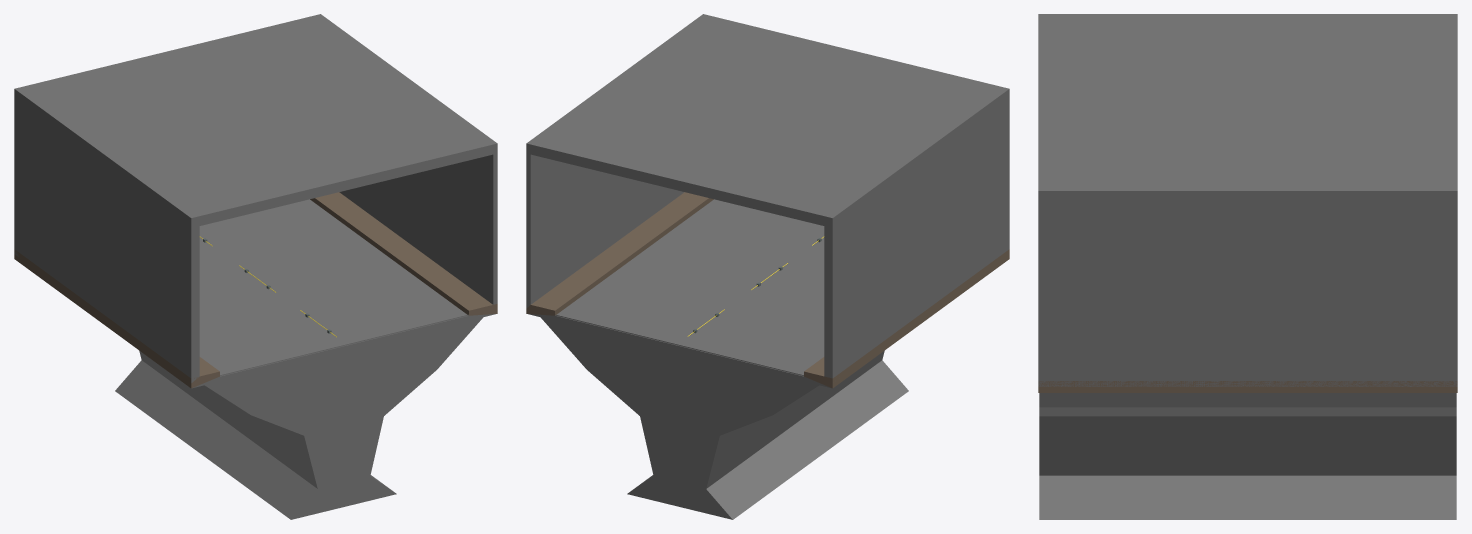
The picture shows the model from 3 angles, left to right: view 1: azimuth 30°, elevation 25°; view 2: azimuth 150°, elevation 25°; view 3: azimuth 270°, elevation 25°; orthographic projection. The views are drawn at different scales.
Visible parts, largest first — view 1: BR86 | archived geometry; view 2: BR86 | archived geometry; view 3: BR86 | archived geometry.
Boxes of the visible parts, box(x1,y1,x2,y2) form: BR86 | archived geometry: box(14, 14, 497, 519); BR86 | archived geometry: box(526, 14, 1009, 519); BR86 | archived geometry: box(1038, 14, 1457, 519).
Size of the model in its own units: 16 by 16.29 by 16.
